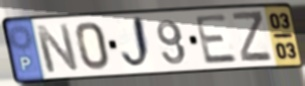0: (73, 21, 112, 72)
9: (155, 18, 188, 66)
E: (193, 12, 241, 66)
J: (120, 14, 155, 73)
N: (33, 22, 82, 75)
Z: (230, 9, 274, 64)
